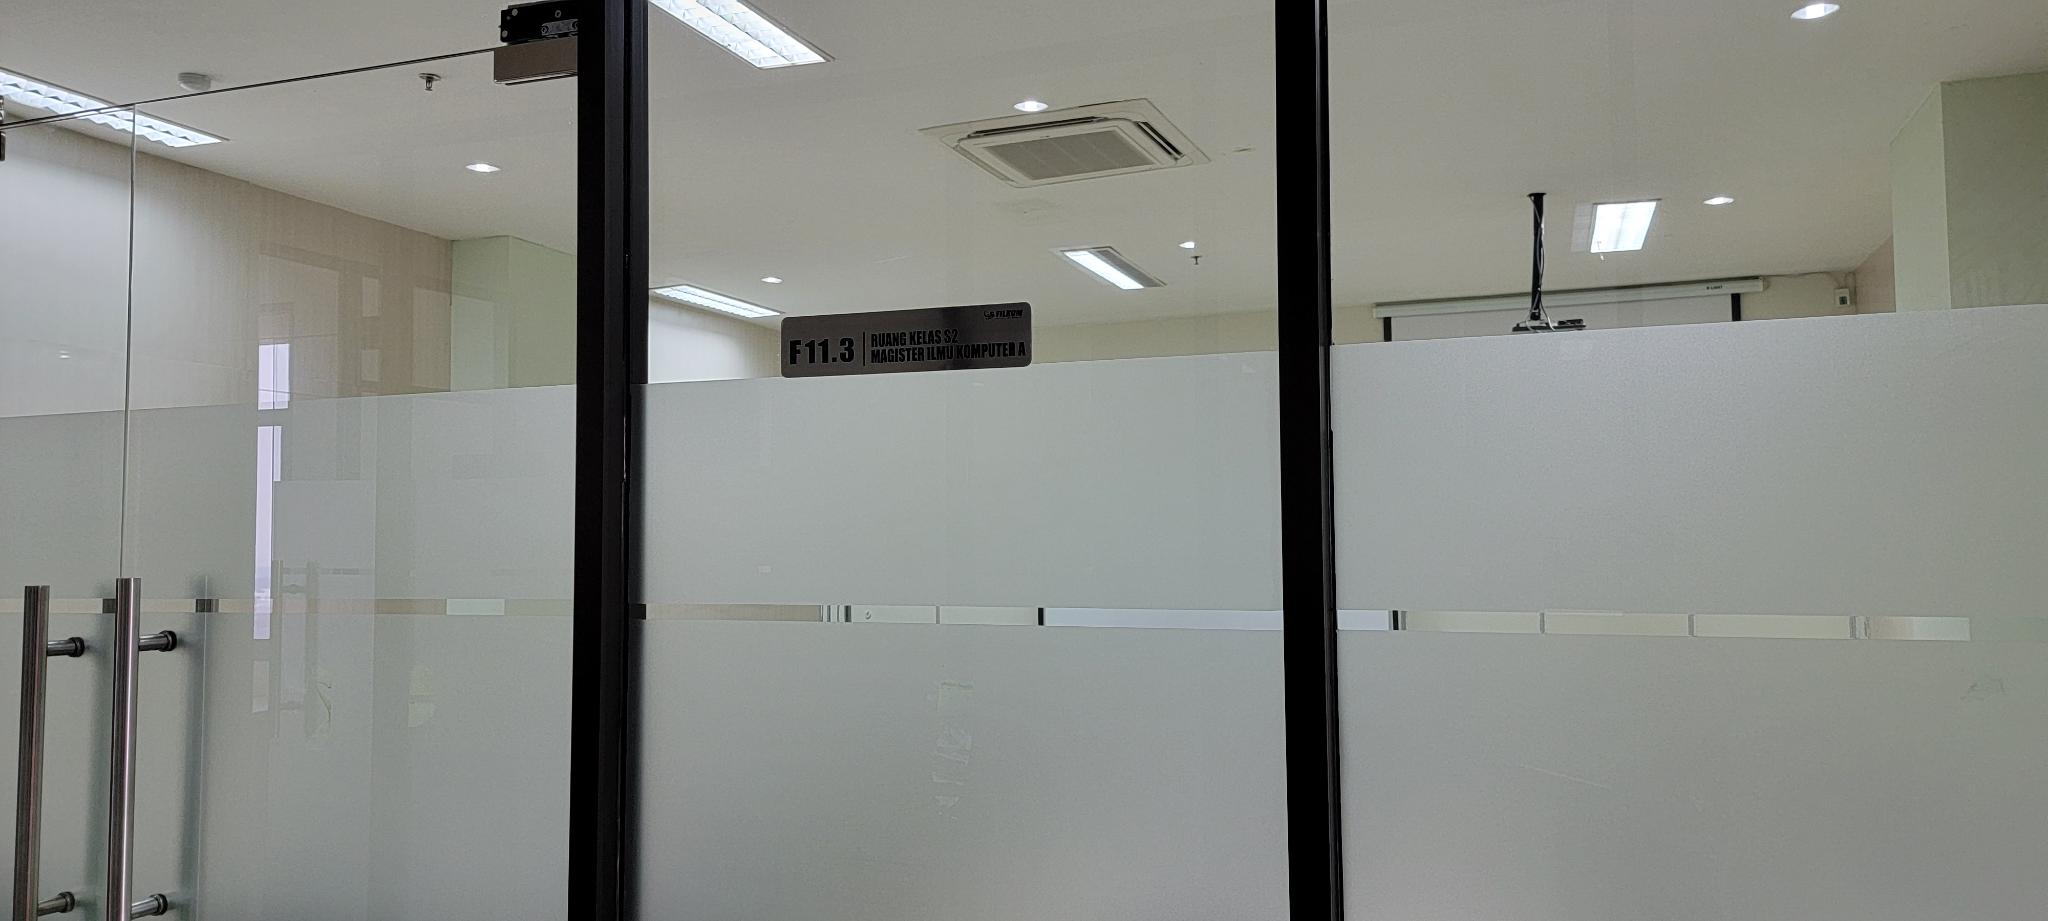plate: (778, 304, 1032, 381)
